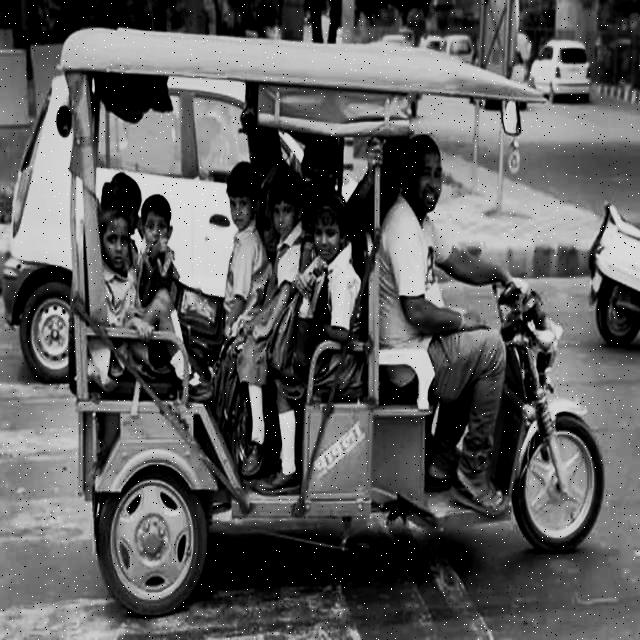Toto: (55, 25, 604, 605)
